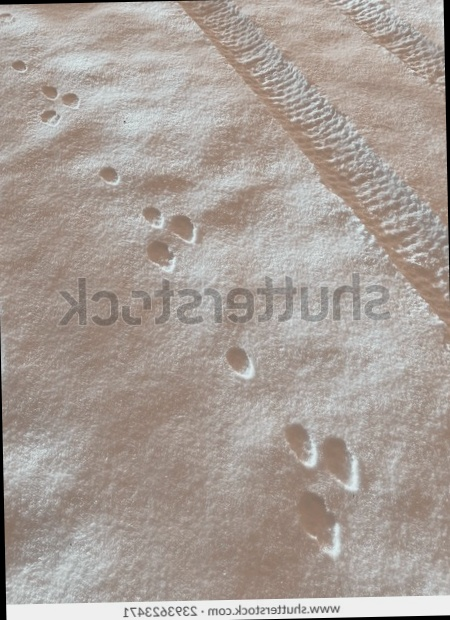lapin: (82, 409, 173, 573), (245, 195, 316, 280), (362, 70, 416, 131), (197, 334, 233, 379), (319, 155, 355, 190), (417, 48, 438, 72)
